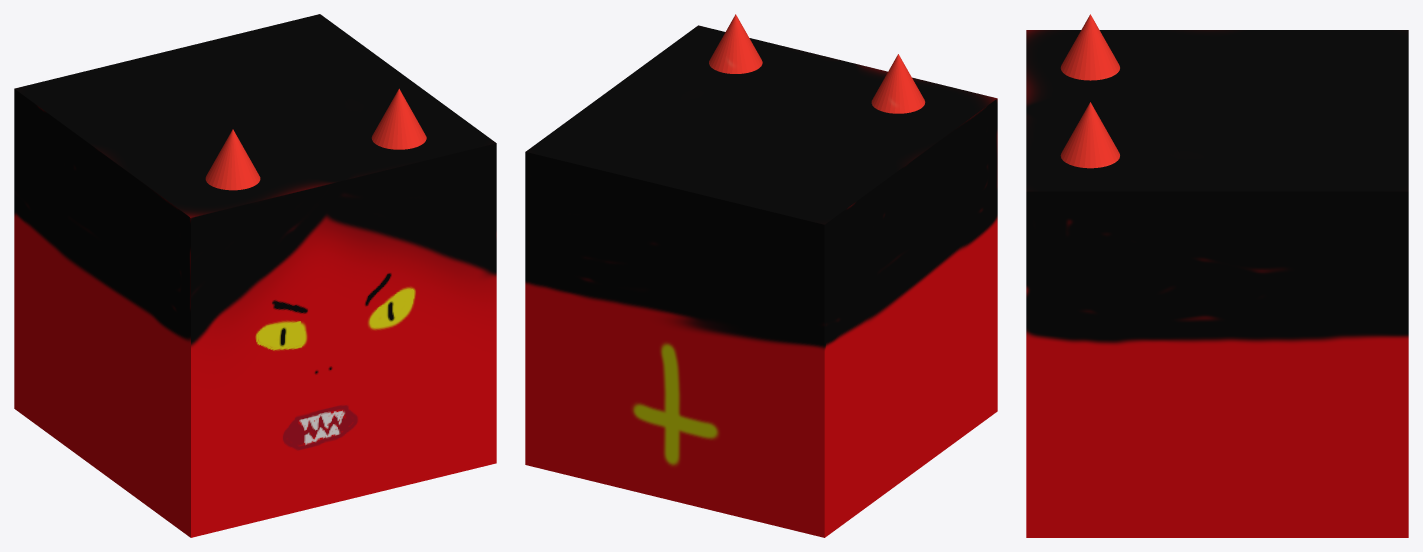
Rendered from TheDevil.fbx.
The picture shows the model from 3 angles, left to right: view 1: azimuth 30°, elevation 25°; view 2: azimuth 150°, elevation 25°; view 3: azimuth 270°, elevation 25°; orthographic projection. The views are drawn at different scales.
Parts seen in each view (by area): view 1: Cube, Cone, Cone.001; view 2: Cube, Cone, Cone.001; view 3: Cube, Cone, Cone.001.
Part boxes in pixels (x1,y1,x2,y2): Cube: (14,14,496,537); Cone: (205,129,260,190); Cone.001: (371,88,426,149); Cube: (525,25,997,537); Cone: (871,54,925,113); Cone.001: (709,14,762,73); Cube: (1026,30,1408,537); Cone: (1060,14,1119,80); Cone.001: (1060,102,1119,168).
Bounding box in the file's own units: 200 × 231 × 200.
Materials: 2 (2 with a texture image).
